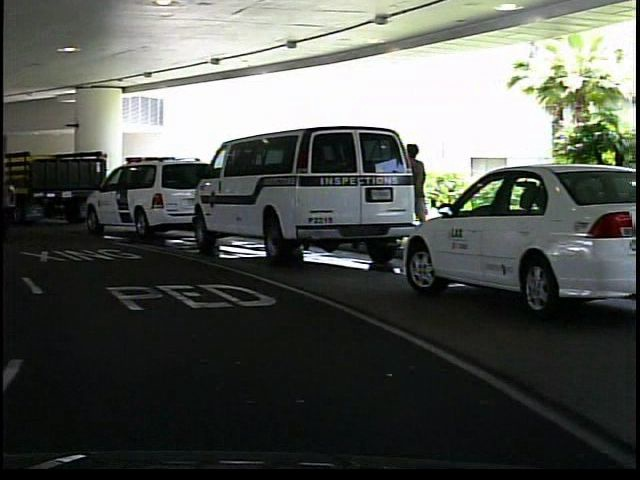person: (395, 139, 430, 255)
